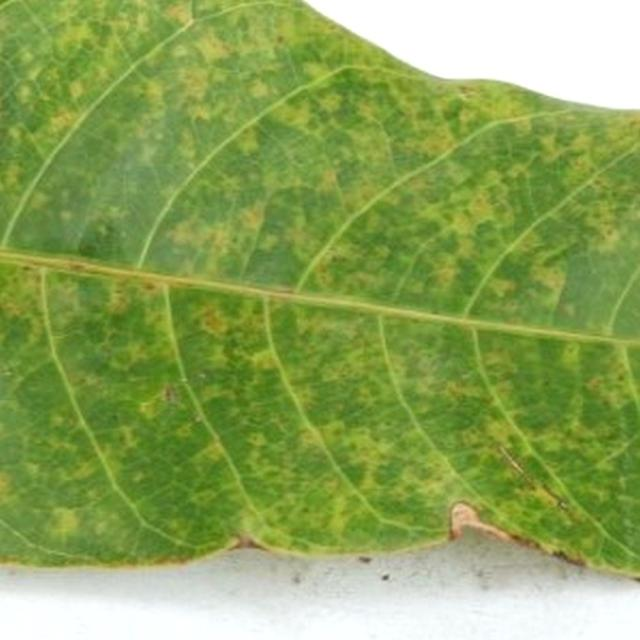Mango: (0, 0, 639, 570)
Powdery_Mildew: (76, 417, 223, 548), (239, 188, 345, 285), (243, 114, 336, 193), (30, 266, 108, 340), (550, 246, 614, 330), (420, 380, 491, 438), (572, 374, 628, 441), (177, 26, 244, 81), (328, 426, 391, 473), (82, 219, 124, 262), (140, 383, 186, 416), (42, 501, 81, 537), (36, 267, 57, 331), (196, 303, 233, 337), (534, 481, 570, 511), (247, 346, 284, 375), (235, 203, 267, 234), (471, 218, 504, 247), (188, 99, 218, 125), (166, 3, 194, 25), (555, 549, 587, 568), (68, 80, 86, 100), (16, 84, 32, 104), (457, 85, 479, 98), (20, 263, 43, 274), (143, 280, 158, 292), (475, 568, 486, 579), (6, 567, 18, 576), (276, 35, 285, 44)
